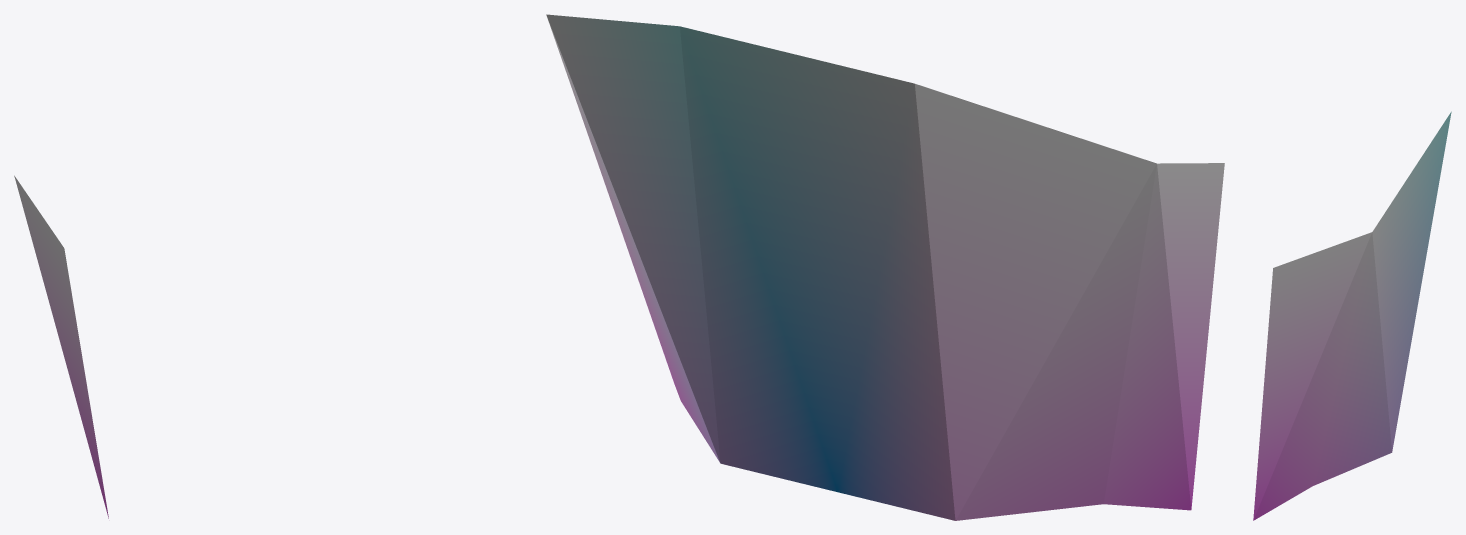
3 views of the same model, side by side, from view 1: azimuth 30°, elevation 25°; view 2: azimuth 150°, elevation 25°; view 3: azimuth 270°, elevation 25° (orthographic). The views are drawn at different scales.
Visible parts, largest first — view 1: model_1199; view 2: model_1199; view 3: model_1199.
Part boxes in pixels (x1,y1,x2,y2): model_1199: [14, 175, 108, 518]; model_1199: [546, 14, 1224, 520]; model_1199: [1253, 111, 1451, 520].
Size of the model in its own units: 26 by 20 by 10.
